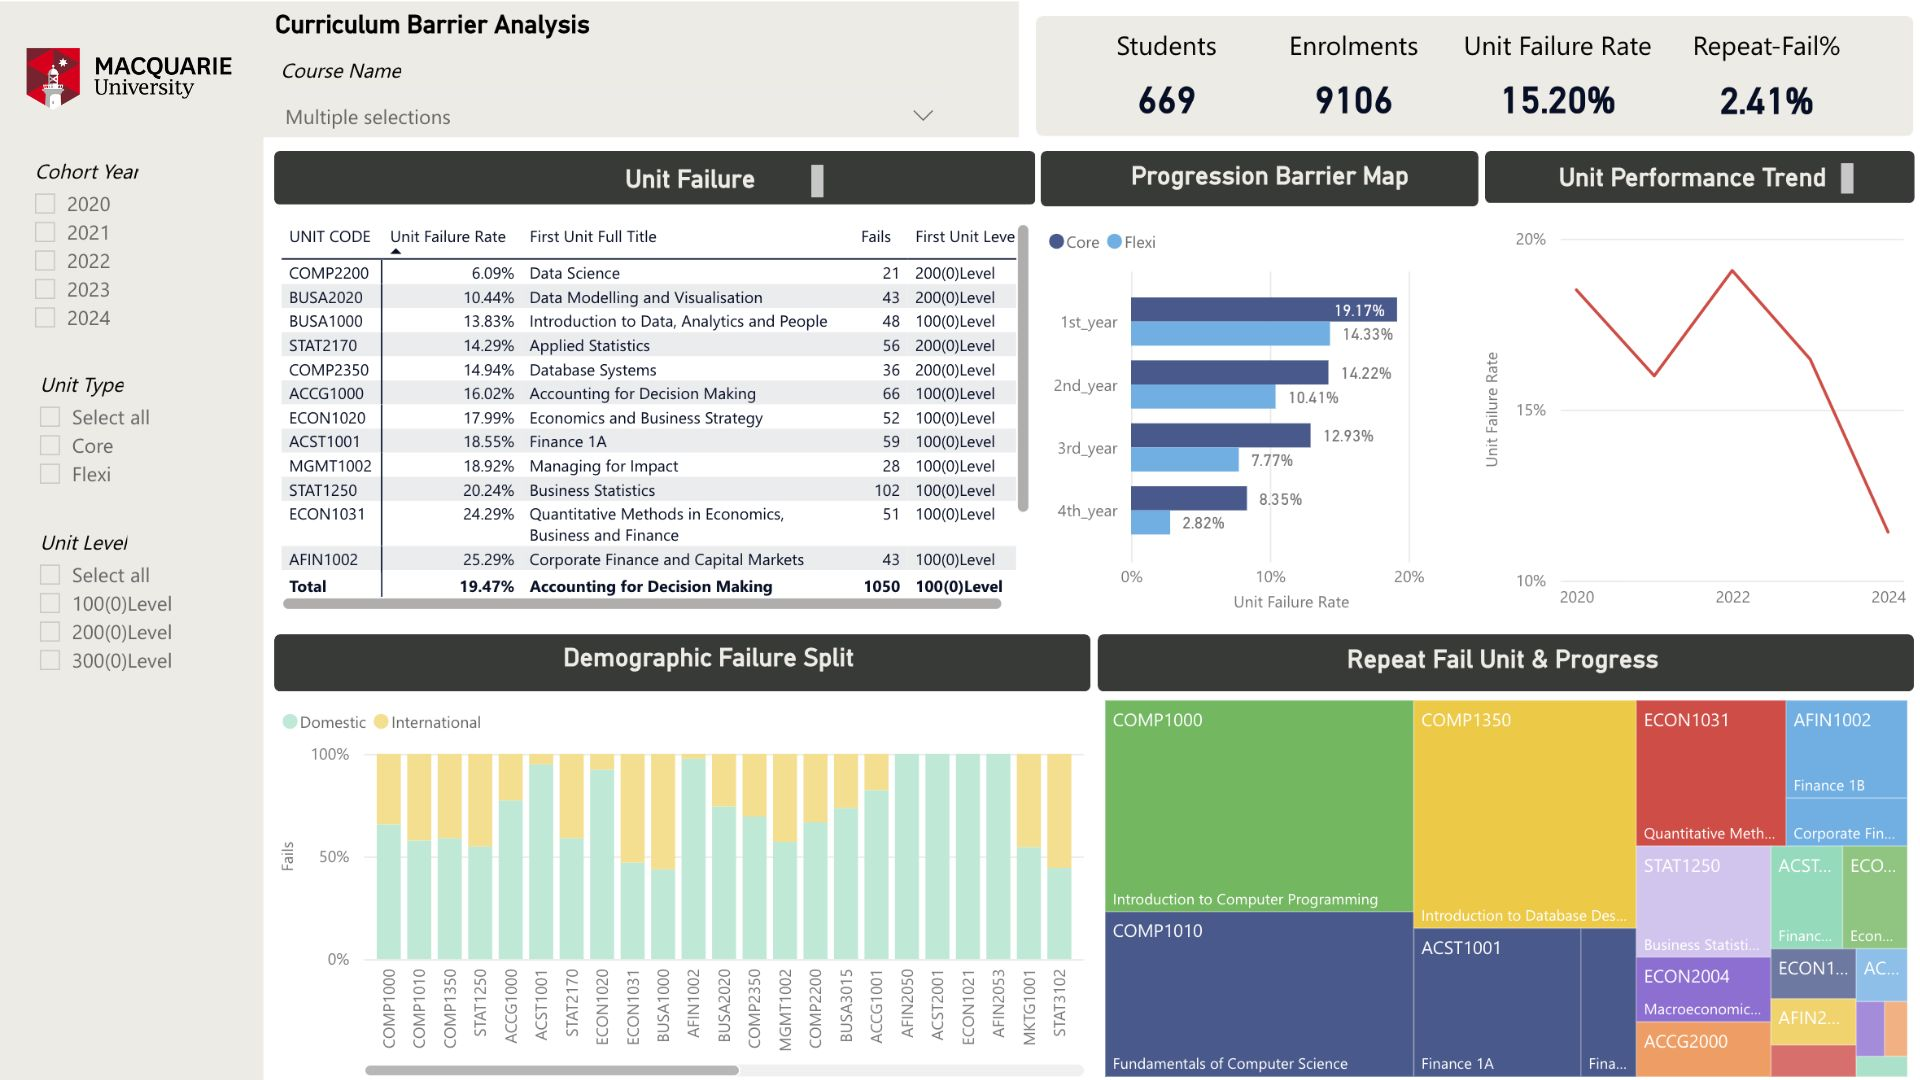

This screenshot's page, from the dashboard's own definition file:
{"tool":"powerbi","page":{"name":"Curriculum Barrier Analysis","canvas":[1280,720],"ordinal":0},"visuals":[{"type":"shape","box":[0,0,175.6,720.6],"z":0},{"type":"shape","box":[0,0,677.3,91.7],"z":1000},{"type":"slicer","fields":{"Values":["combined_df_cleaned.COURSE_FULL_TITLE"]},"box":[174.2,32.8,462.5,59],"z":2000},{"type":"slicer","title":"Year","fields":{"Values":["combined_df_cleaned.Cohort Year (Final)"]},"box":[10.5,99.6,165.1,178.2],"z":3000},{"type":"slicer","fields":{"Values":["combined_df_cleaned.UNIT_CORE_OR_FLEXI"]},"box":[14.4,241.1,161.1,104.8],"z":4000},{"type":"slicer","fields":{"Values":["combined_df_cleaned.UNIT_LEVEL"]},"box":[14.4,345.9,136.3,172.9],"z":5000},{"type":"shape","box":[689.1,10.5,583,79.9],"z":6000},{"type":"card","title":"Students","fields":{"Values":["combined_df_cleaned.Total Students"]},"box":[689.8,18.4,171.6,72.1],"z":7000},{"type":"card","title":"Unit Failure Rate","fields":{"Values":["combined_df_cleaned.Fail %"]},"box":[941.3,18.4,187.3,72.1],"z":8000},{"type":"card","title":"Repeat-Fail%","fields":{"Values":["combined_df_cleaned.Repeat-Fail %"]},"box":[1084.1,18.4,179.5,73.4],"z":9000},{"type":"card","title":"Enrolments","fields":{"Values":["combined_df_cleaned.Enrolments"]},"box":[816.8,18.4,165.1,72.1],"z":10000},{"type":"pivotTable","title":"Unit Failure Sequence ","fields":{"Rows":["combined_df_cleaned.UNIT_CODE"],"Values":["combined_df_cleaned.Unit Failure Rate","Min(combined_df_cleaned.UNIT_FULL_TITLE)","combined_df_cleaned.Fails","Min(combined_df_cleaned.UNIT_LEVEL)"]},"box":[182.9,144.3,507.1,267.1],"z":11000},{"type":"shape","box":[182.9,100,505.7,35.7],"z":12000},{"type":"textbox","box":[373.5,104.9,178.4,31.4],"z":13000},{"type":"lineChart","title":"Unit Performance Trend","fields":{"Y":["combined_df_cleaned.Unit Failure Rate"],"Category":["combined_df_cleaned.ACADEMIC_YEAR"]},"box":[982.7,144.5,289.1,269.1],"z":14000},{"type":"clusteredBarChart","title":"Progression Barrier Map","fields":{"Y":["combined_df_cleaned.Unit Failure Rate"],"Series":["combined_df_cleaned.UNIT_CORE_OR_FLEXI"],"Category":["combined_df_cleaned.STUDY_YEAR_LABEL"]},"box":[691.8,141.8,289.1,270],"z":15000},{"type":"shape","box":[691.5,100,290.8,36.9],"z":16000},{"type":"textbox","box":[740.2,102.2,210.9,31.4],"z":17000},{"type":"shape","box":[986.7,100.7,285.3,34.7],"z":18000},{"type":"textbox","box":[1021.9,103.5,214.9,30.1],"z":19000},{"type":"shape","box":[183.1,421.1,542.3,38],"z":20000},{"type":"textbox","box":[340.6,423.2,266,31.4],"z":21000},{"type":"shape","box":[729.6,421.1,542.3,38],"z":22000},{"type":"textbox","box":[886.7,423.5,228.6,31.6],"z":23000},{"type":"treemap","title":"Repeat Fail Unit & Progress","fields":{"Group":["combined_df_cleaned.UNIT_CODE"],"Values":["CountNonNull(combined_df_cleaned.REPEAT_FAIL)"],"Details":["combined_df_cleaned.UNIT_FULL_TITLE"]},"box":[730,460,542.9,260],"z":24000},{"type":"hundredPercentStackedColumnChart","title":"Demographic Failure Split","fields":{"Category":["combined_df_cleaned.UNIT_CODE"],"Y":["combined_df_cleaned.Fails"],"Series":["combined_df_cleaned.DOMESTIC_OR_INTERNATIONAL"]},"box":[182.9,460,542.9,260],"z":25000},{"type":"textbox","box":[174.2,2.6,300,32.8],"z":26000}]}

Visuals, with their boxes in screenshot pixels (x1, y1, x2, y2), scaled from the page's 1280x720 canvas onto the 1920x1080 screenshot:
shape: 0 0 263 1079
shape: 0 0 1016 138
slicer - combined_df_cleaned.COURSE_FULL_TITLE: 261 49 955 138
"Year" slicer: 16 149 263 417
slicer - combined_df_cleaned.UNIT_CORE_OR_FLEXI: 22 362 263 519
slicer - combined_df_cleaned.UNIT_LEVEL: 22 519 226 778
shape: 1034 16 1908 136
"Students" card: 1035 28 1292 136
"Unit Failure Rate" card: 1412 28 1693 136
"Repeat-Fail%" card: 1626 28 1895 138
"Enrolments" card: 1225 28 1473 136
"Unit Failure Sequence " pivotTable: 274 216 1035 617
shape: 274 150 1033 204
textbox: 560 157 828 204
"Unit Performance Trend" lineChart: 1474 217 1908 620
"Progression Barrier Map" clusteredBarChart: 1038 213 1471 618
shape: 1037 150 1473 205
textbox: 1110 153 1427 200
shape: 1480 151 1908 203
textbox: 1533 155 1855 200
shape: 275 632 1088 689
textbox: 511 635 910 682
shape: 1094 632 1908 689
textbox: 1330 635 1673 683
"Repeat Fail Unit & Progress" treemap: 1095 690 1909 1079
"Demographic Failure Split" hundredPercentStackedColumnChart: 274 690 1089 1079
textbox: 261 4 711 53
